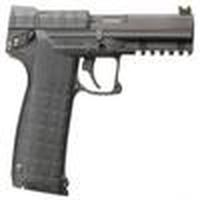gun: (3, 5, 200, 197)
